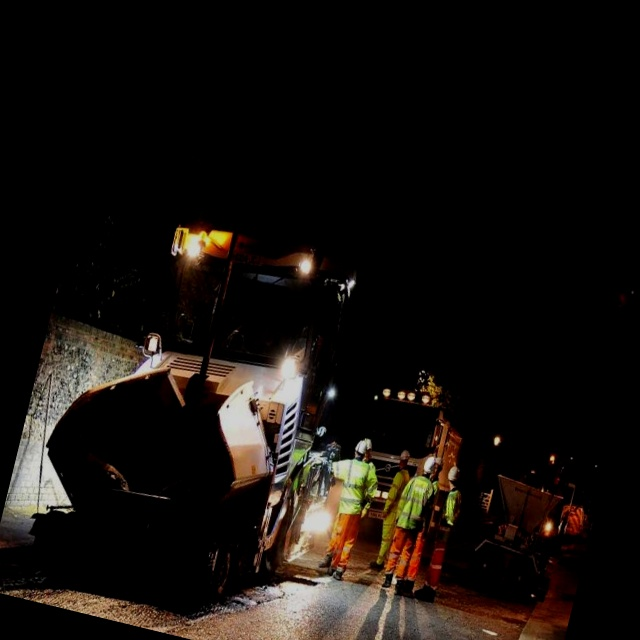Con_Chaleco: (336, 459, 374, 521), (397, 474, 436, 533), (438, 488, 465, 534)
